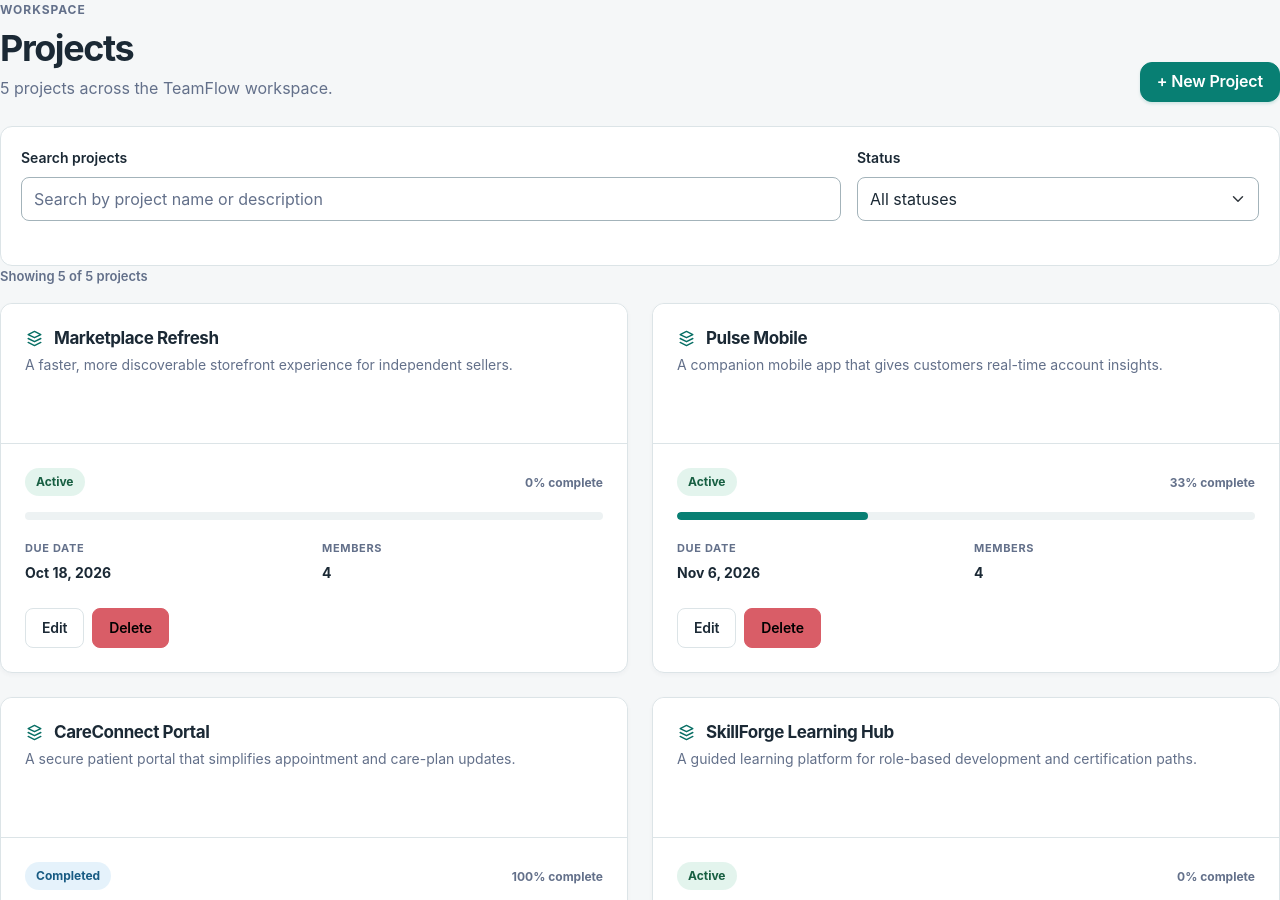
Scenario: project workflows › edits a project and updates the visible project name
Click the button with aria-label "Edit Marketplace Refresh" at [55, 628], box [25,608,84,648]
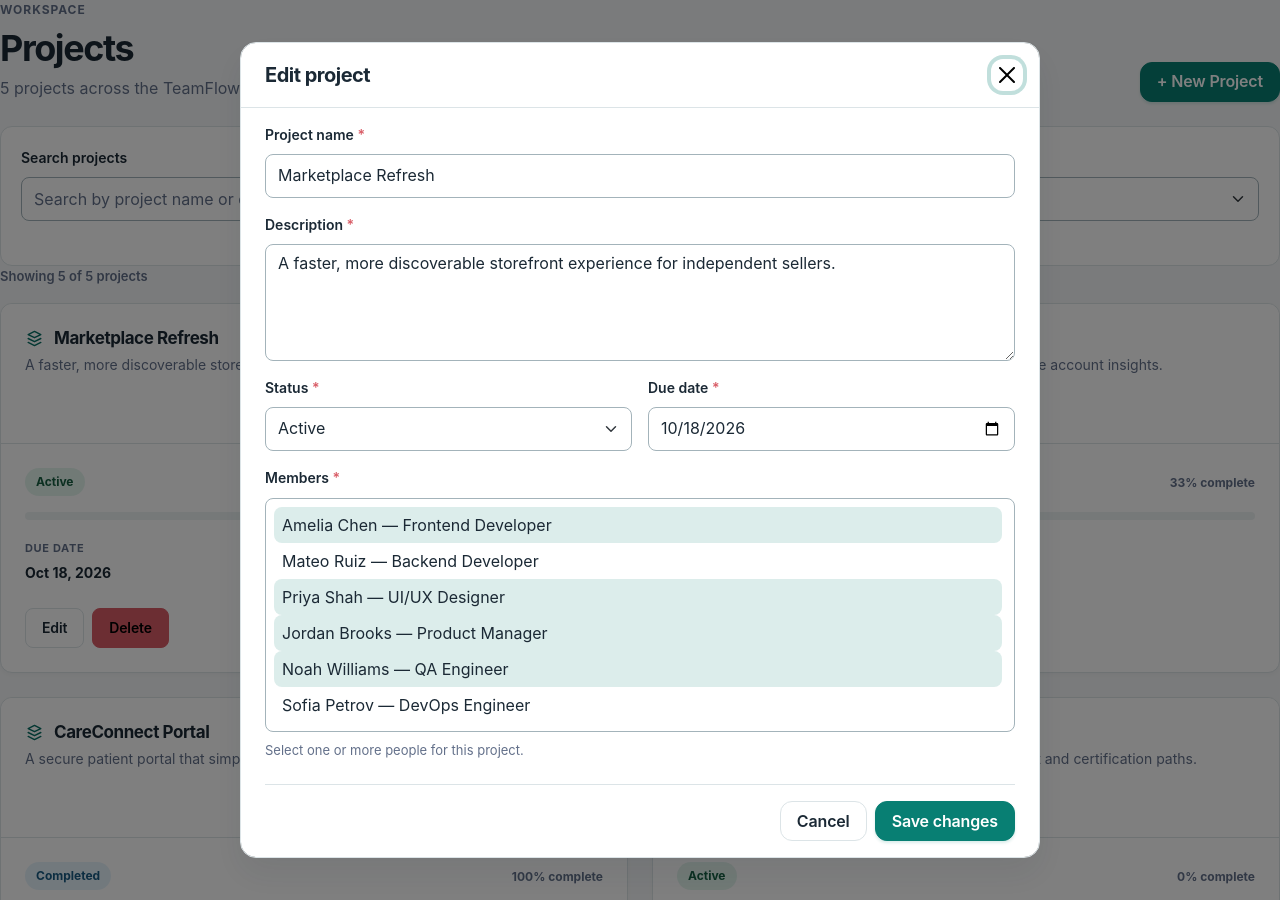
Replace the text in the field labelled "Project name *" with "Alpha Project Updated" at [640, 176], box [265,154,1015,198]
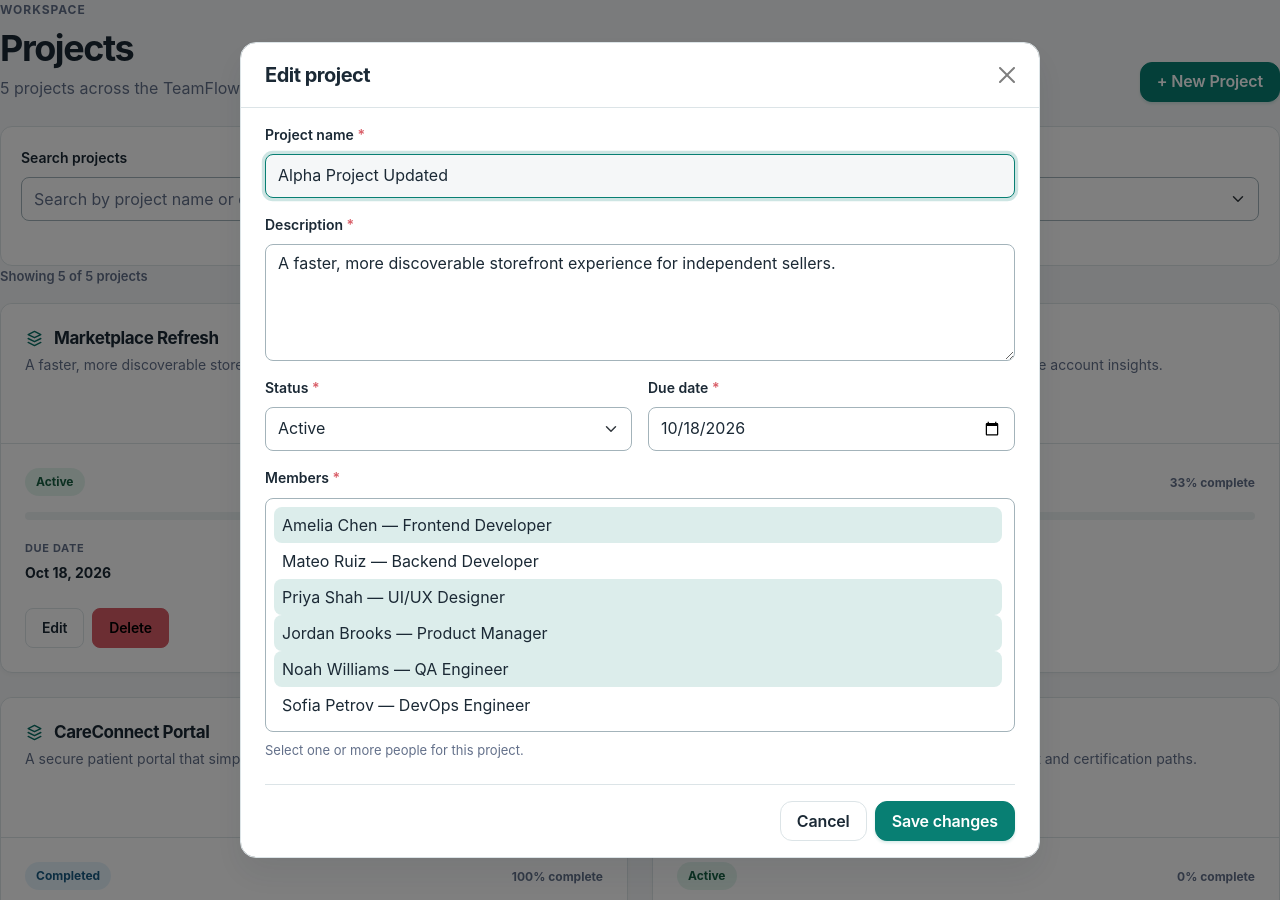
Click the button "Save changes" at [945, 821], box [875,801,1015,841]
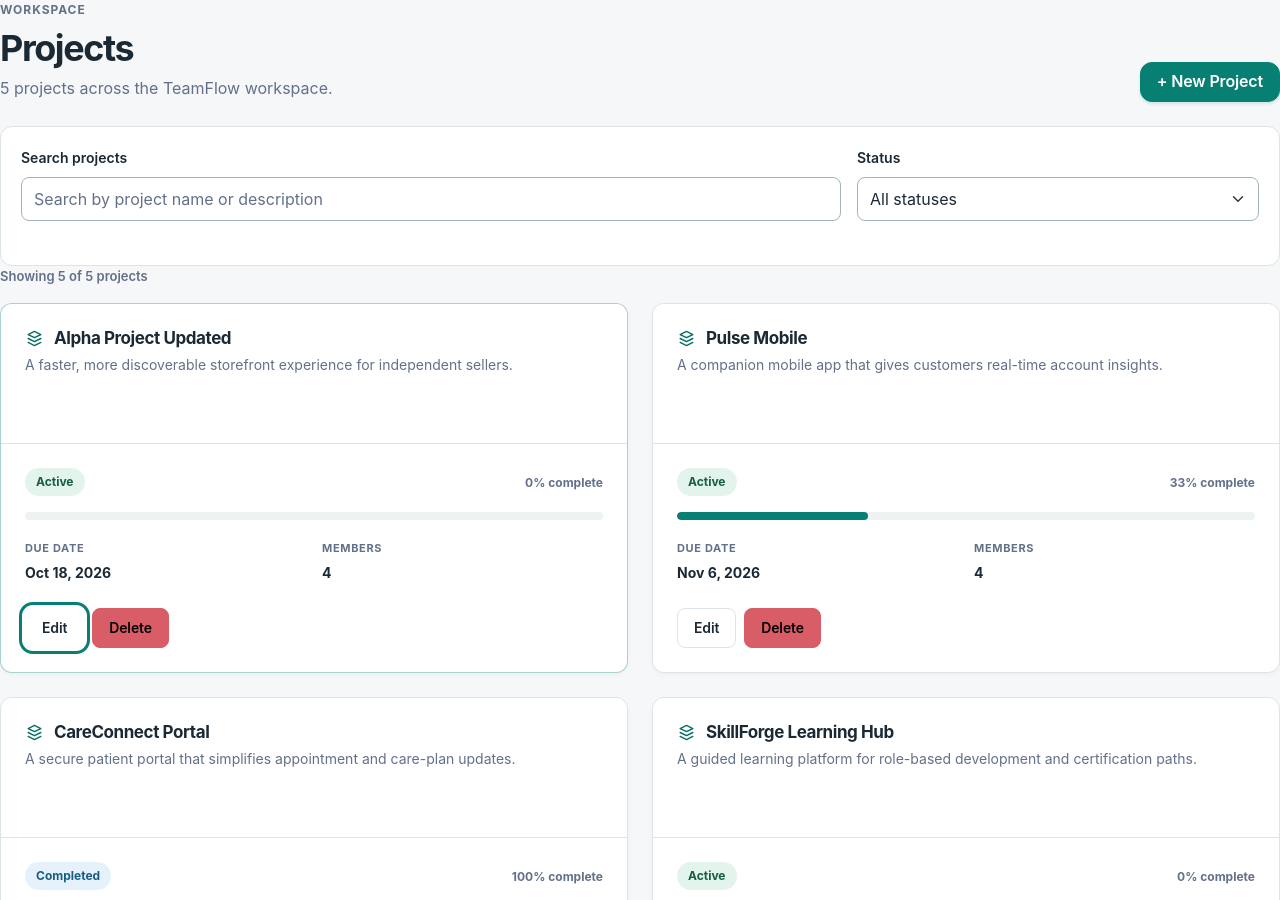
Result: the link "Alpha Project Updated" is shown at [25,332,231,352]
Result: the link "Marketplace Refresh" is gone
